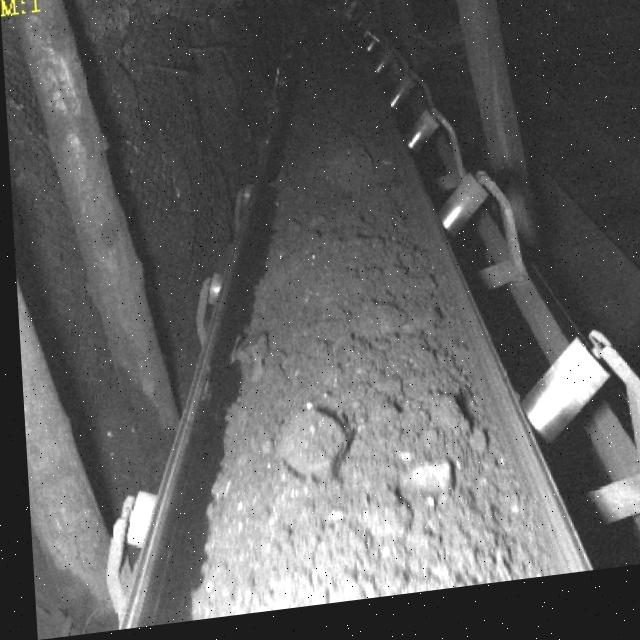large_sized_coal: (269, 414, 346, 491), (223, 337, 264, 393)
